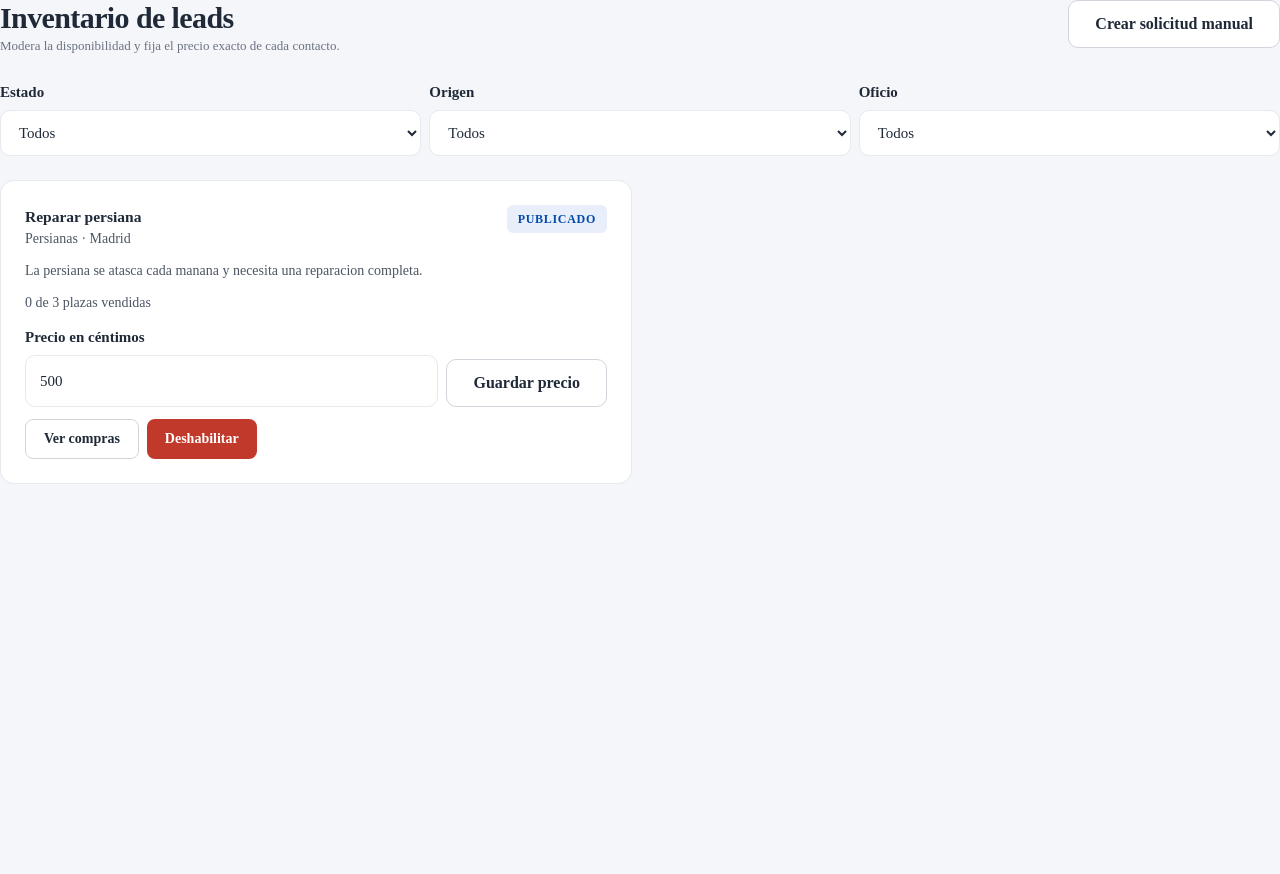
Test: AdminLeads › keeps the manual lead form folded until it is asked for
The image size is (1280, 874).
Check: the heading "Reparar persiana" is shown, box top-left (25, 204), bottom-right (141, 229)
Click the button "Crear solicitud manual". click: (1174, 24)
box: top-left (1068, 0), bottom-right (1279, 48)
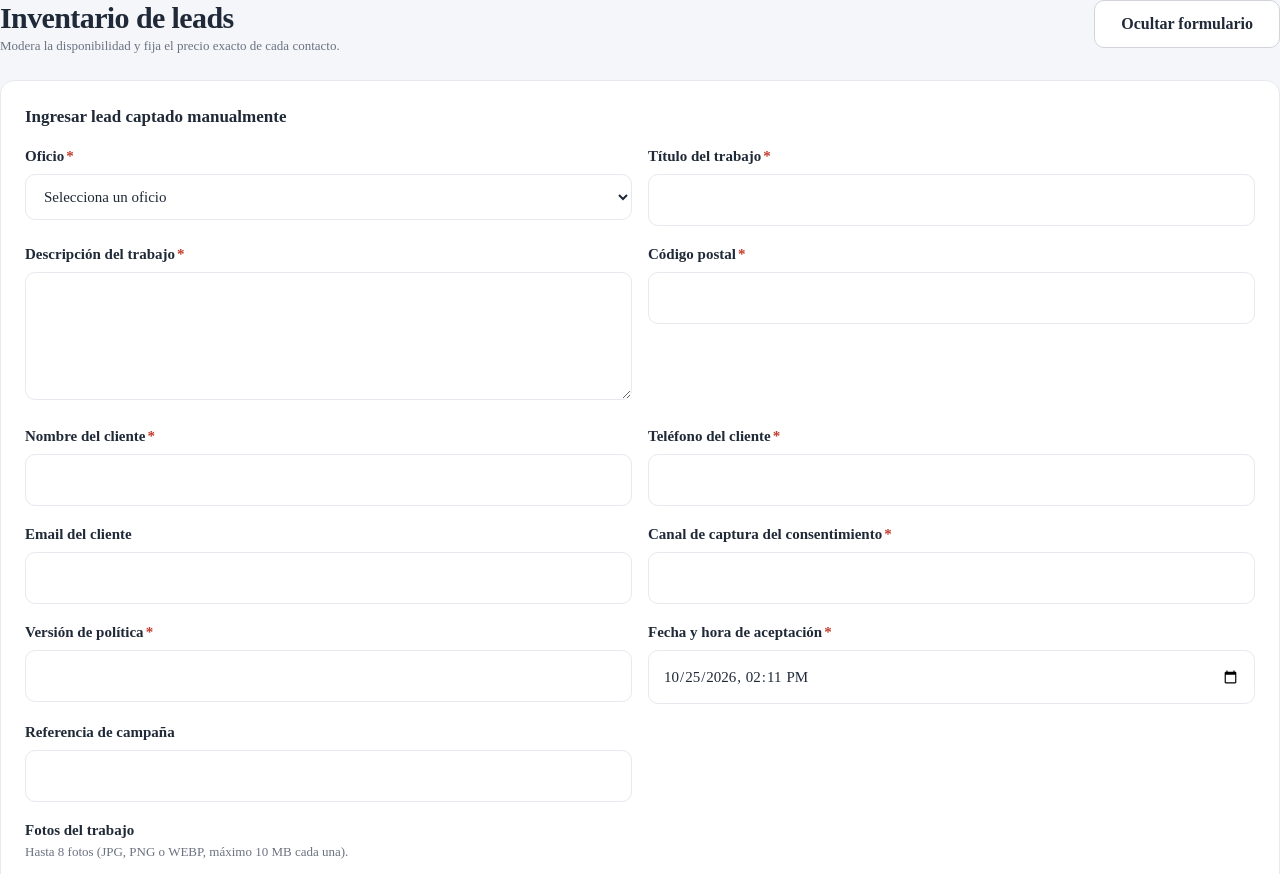
Check: the button "Ocultar formulario" is shown, box top-left (1094, 0), bottom-right (1279, 48)
